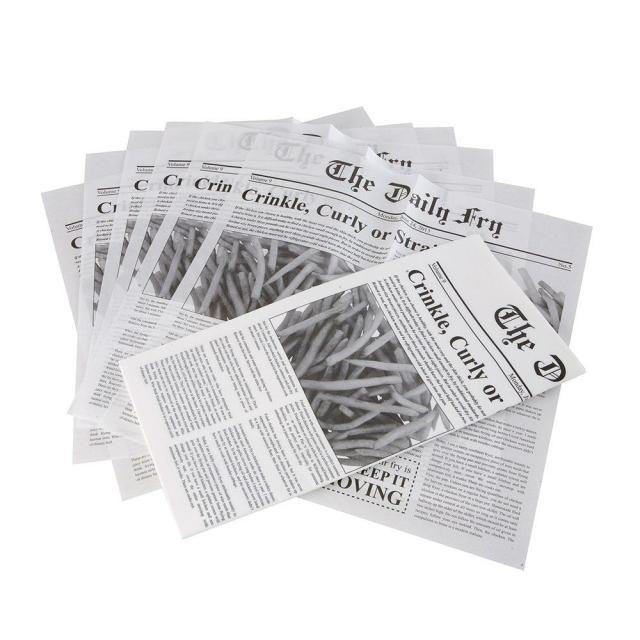paper: (41, 107, 595, 571)
